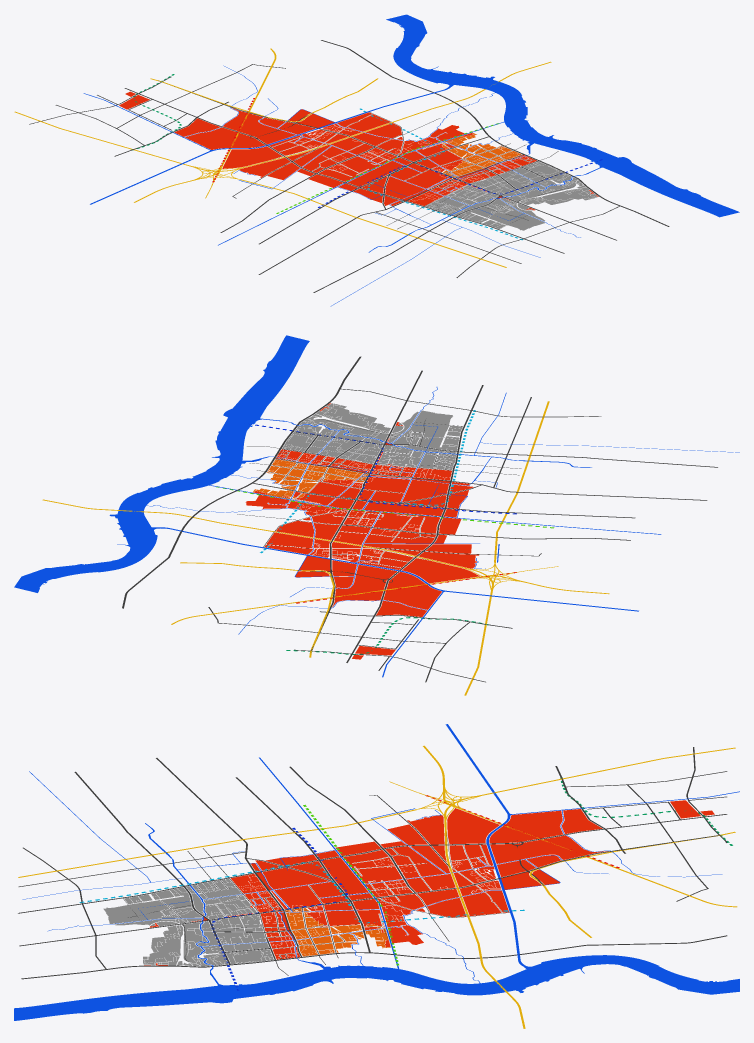
Rendered from map.FBX.
3 views of the same model, one above another, from view 1: azimuth 30°, elevation 25°; view 2: azimuth 150°, elevation 25°; view 3: azimuth 270°, elevation 25° (orthographic). The views are drawn at different scales.
Parts seen in each view (by area): view 1: aera, river, road, highway, metro, 54-1; view 2: aera, river, road, highway, metro, 54-1; view 3: aera, river, road, highway, metro, 54-1, 53-11.
Part boxes in pixels (x1=…): aera: x1=119, y1=91, x2=598, y2=210; river: x1=83, y1=14, x2=739, y2=306; road: x1=29, y1=40, x2=669, y2=292; highway: x1=14, y1=48, x2=551, y2=267; metro: x1=131, y1=74, x2=602, y2=240; 54-1: x1=488, y1=206, x2=544, y2=230; aera: x1=245, y1=403, x2=479, y2=659; river: x1=14, y1=335, x2=739, y2=677; road: x1=122, y1=356, x2=717, y2=682; highway: x1=42, y1=401, x2=609, y2=695; metro: x1=216, y1=410, x2=554, y2=654; 54-1: x1=403, y1=410, x2=452, y2=437; aera: x1=144, y1=800, x2=714, y2=965; river: x1=14, y1=724, x2=739, y2=1020; road: x1=18, y1=747, x2=727, y2=979; highway: x1=18, y1=745, x2=737, y2=1028; metro: x1=79, y1=777, x2=732, y2=990; 54-1: x1=103, y1=900, x2=178, y2=923; 53-11: x1=143, y1=937, x2=180, y2=964.
Bounding box in the file's own units: 140 × 5.66e-05 × 141.
